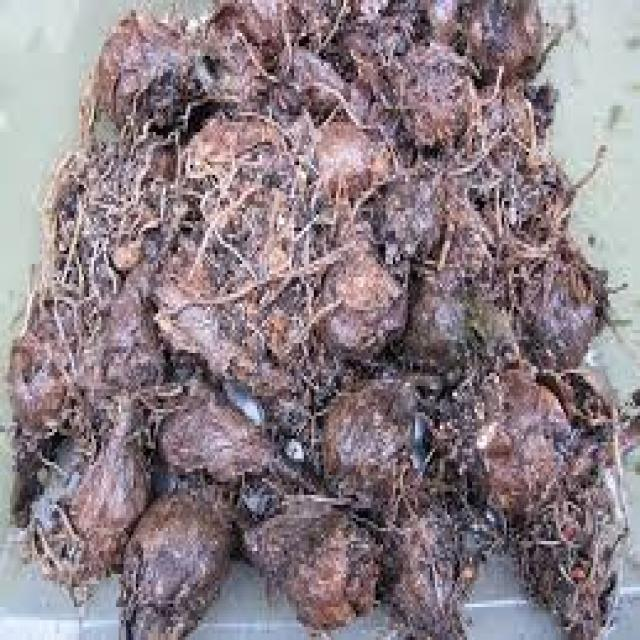food_waste: (10, 0, 628, 637)
